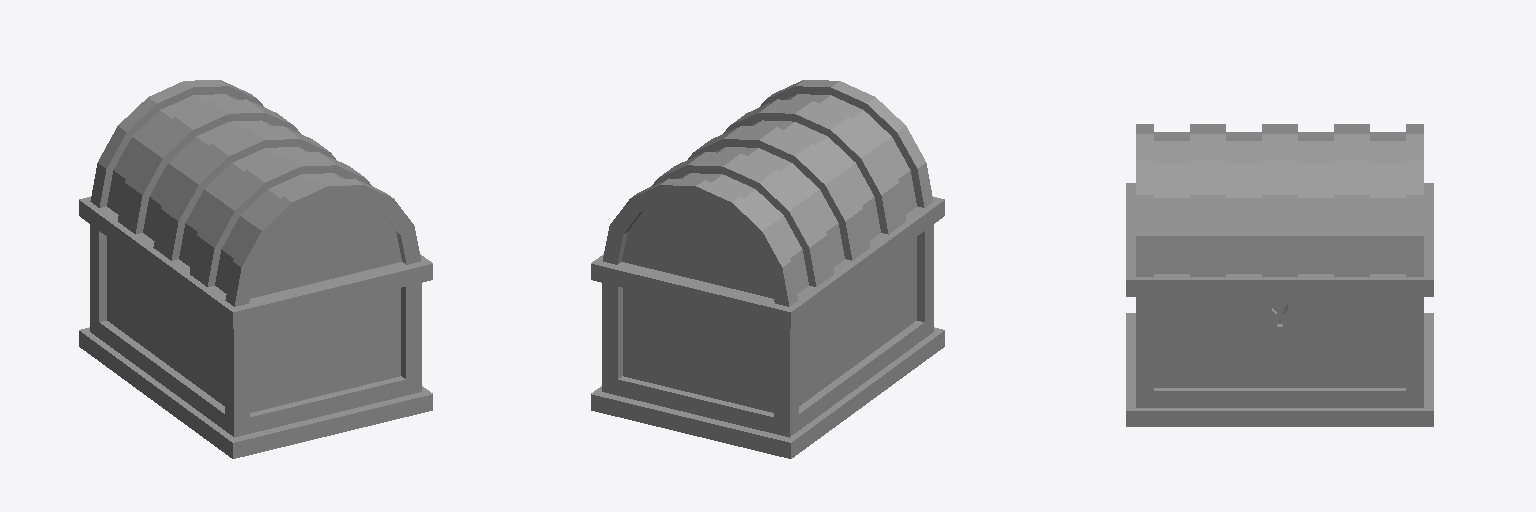
File: chest-2.obj
The picture shows the model from 3 angles: view 1: azimuth 30°, elevation 25°; view 2: azimuth 150°, elevation 25°; view 3: azimuth 270°, elevation 25°; orthographic projection.
Visible parts, largest first — view 1: box_Cube; view 2: box_Cube; view 3: box_Cube.
Boxes of the visible parts, <box> form: box_Cube: <box>79,80,432,458</box>; box_Cube: <box>591,80,944,458</box>; box_Cube: <box>1126,124,1433,426</box>.
Bounding box in the file's own units: 0.6431 × 0.75 × 0.8574.